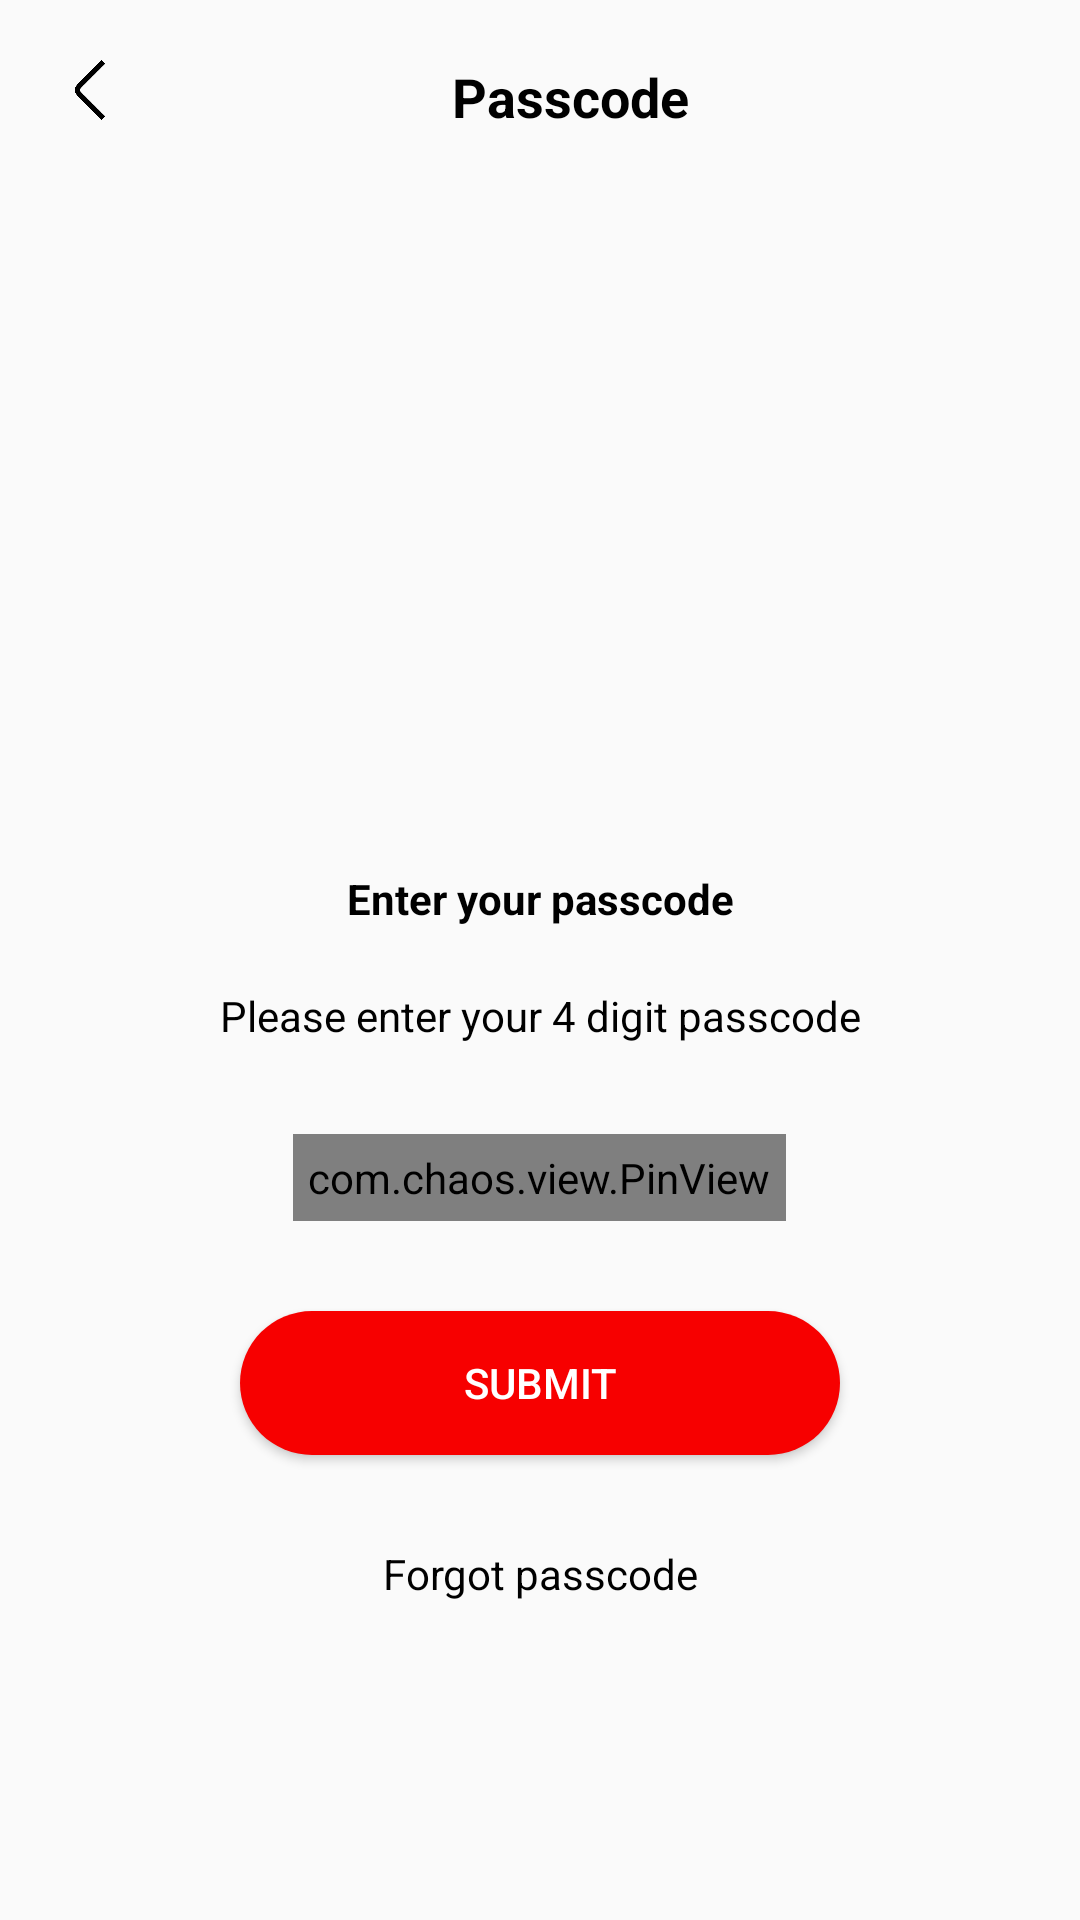

Locate icon controls on the screen. Image size 1080w x 1920h, boxes as (x1, y1, x2, y2).
back: (75, 60, 105, 120)
